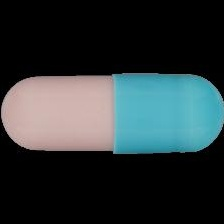61786-834: (0, 0, 224, 224)
